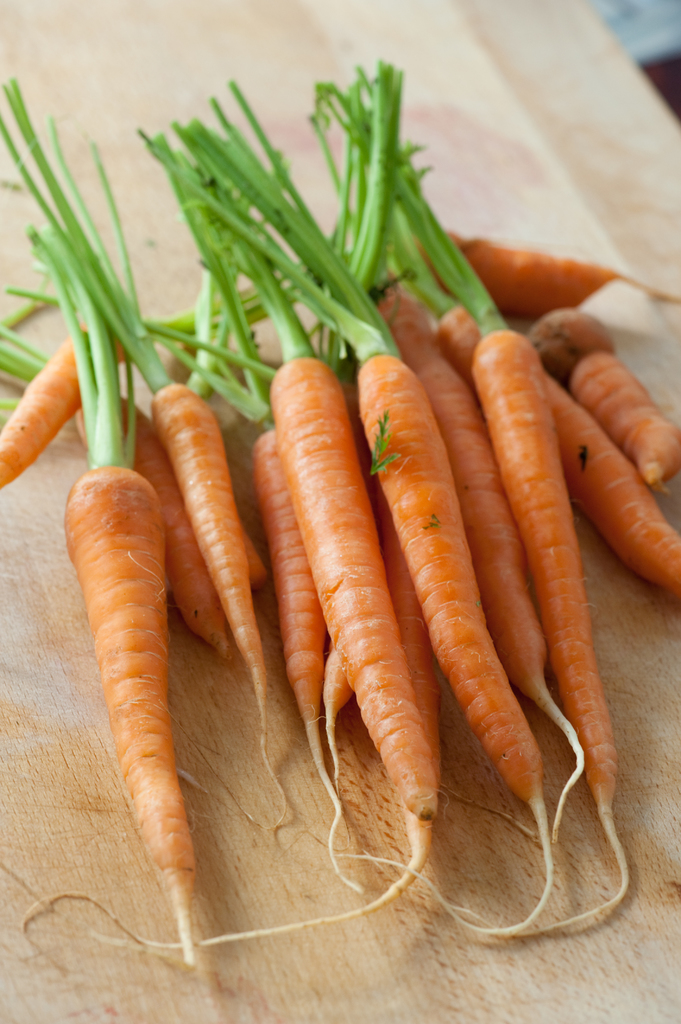Carrot: (1, 56, 680, 965), (0, 64, 200, 971)
